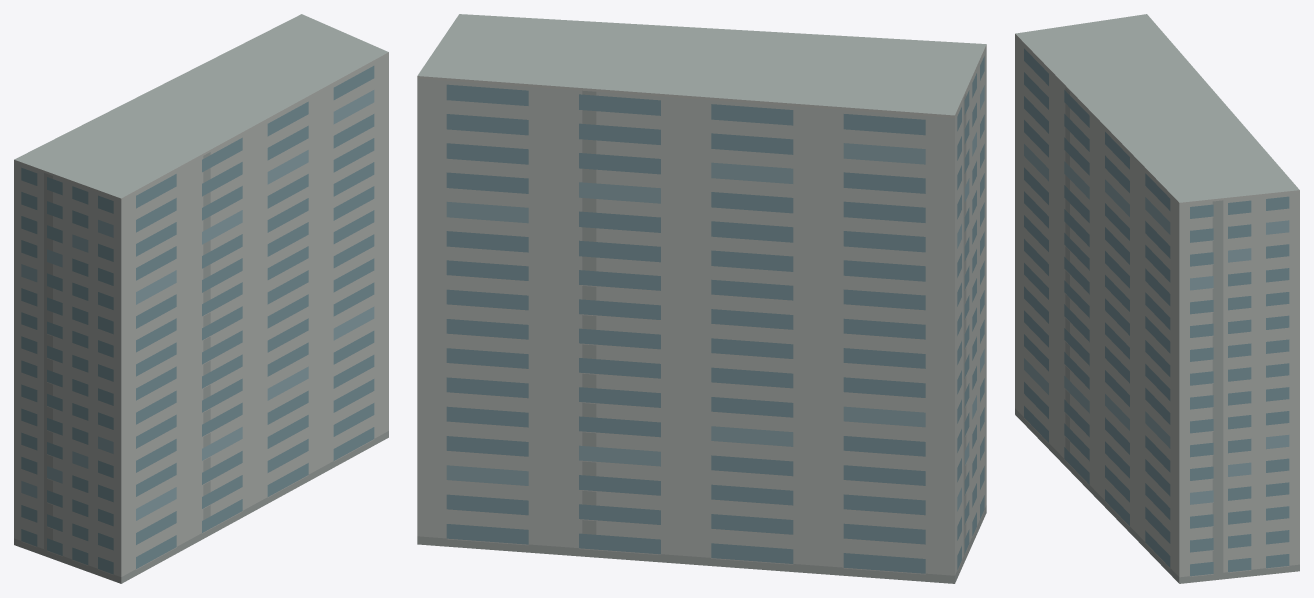
Rendered from residential-f9ae5bbd-1c79-4a55-b645-4520645d563a.glb.
The picture shows the model from 3 angles, left to right: view 1: azimuth 30°, elevation 25°; view 2: azimuth 150°, elevation 25°; view 3: azimuth 270°, elevation 25°; orthographic projection. The views are drawn at different scales.
Parts seen in each view (by area): view 1: residential-f9ae5bbd-1c79-4a55-b645-4520645d563a.tmp; view 2: residential-f9ae5bbd-1c79-4a55-b645-4520645d563a.tmp; view 3: residential-f9ae5bbd-1c79-4a55-b645-4520645d563a.tmp.
Boxes of the visible parts, x1,y1,x2,y2 form: residential-f9ae5bbd-1c79-4a55-b645-4520645d563a.tmp: (14, 14, 388, 583); residential-f9ae5bbd-1c79-4a55-b645-4520645d563a.tmp: (417, 14, 986, 583); residential-f9ae5bbd-1c79-4a55-b645-4520645d563a.tmp: (1015, 14, 1299, 583).
Size of the model in its own units: 45.7 by 43 by 29.13.
